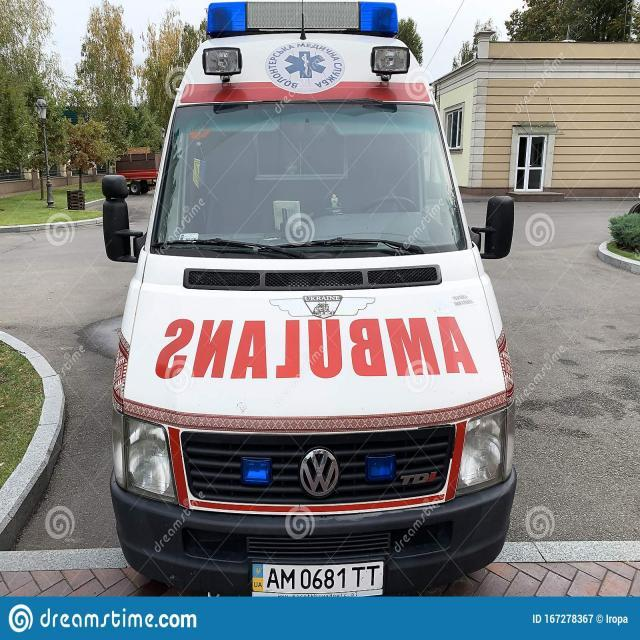emergency-vehicle: (88, 3, 540, 590)
